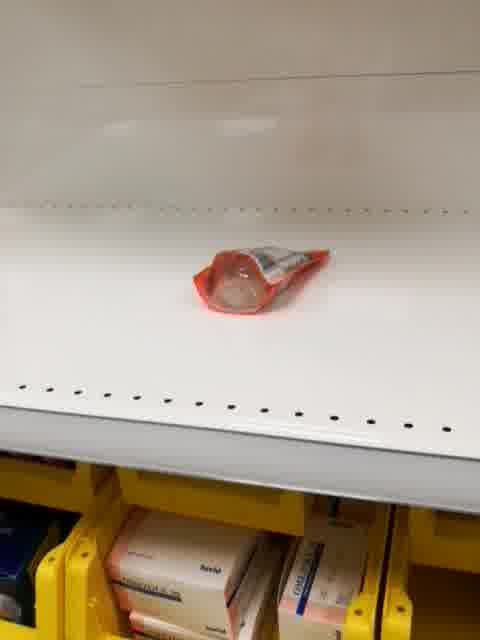whitechia: (190, 244, 333, 321)
